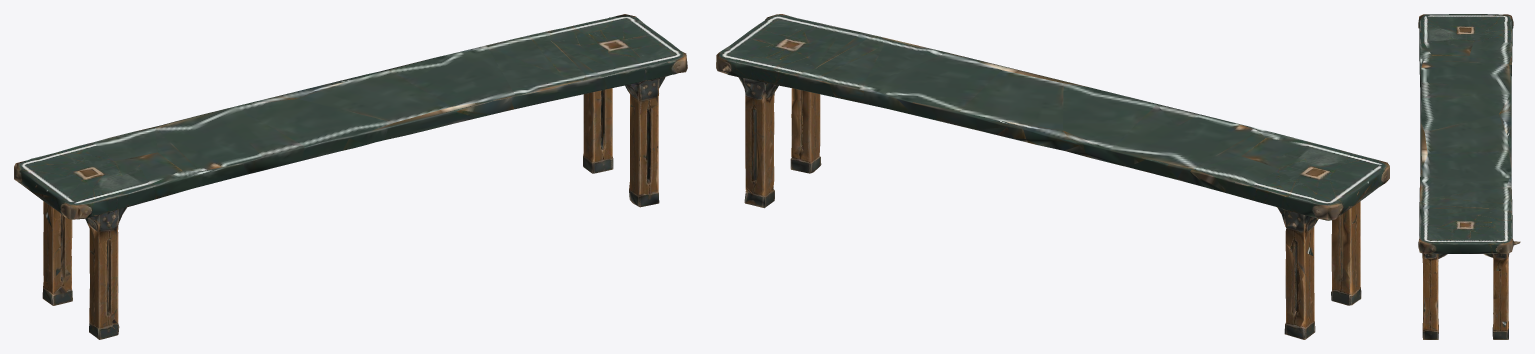
File: table-tennis-table.glb
3 views of the same model, side by side, from view 1: azimuth 30°, elevation 25°; view 2: azimuth 150°, elevation 25°; view 3: azimuth 270°, elevation 25° (orthographic). The views are drawn at different scales.
Size of the model in its own units: 1.9 by 0.4215 by 0.3565.
Materials: 1 (1 with a texture image).
